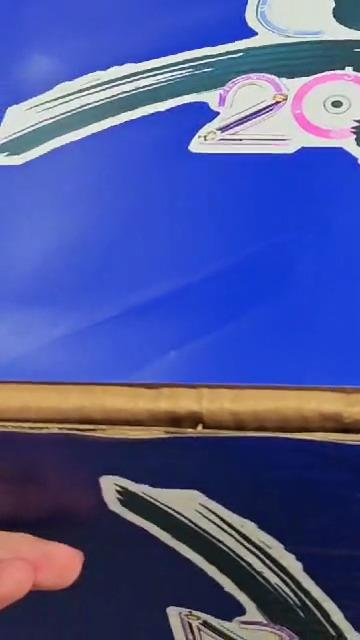B_R1: (17, 0, 360, 215)
